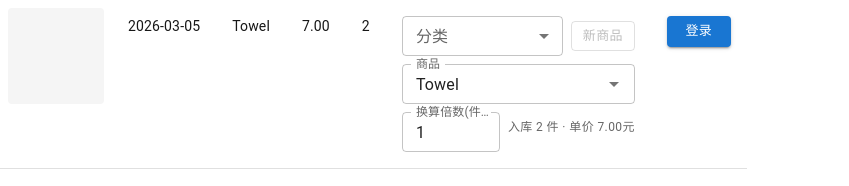
Test: ExtractedResultRow › shows 完成 and the warning when only the image update fails
Step 1. Click the button "登录" → (699, 31), box [667, 16, 731, 47]
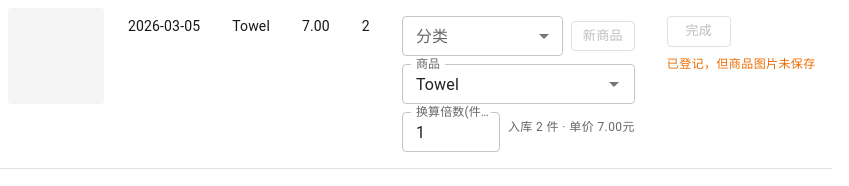
expect the message reads "已登记，但商品图片未保存": met, box [667, 57, 816, 71]
expect the button "完成" is disabled: met, box [667, 16, 731, 47]
